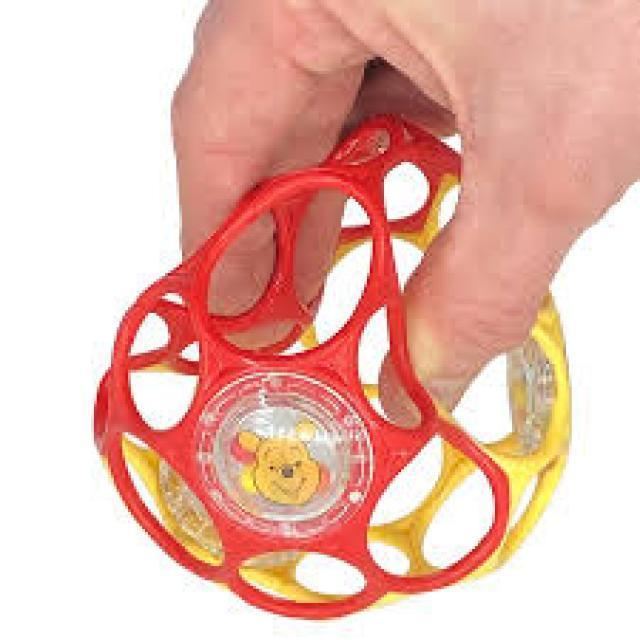hard-toy: (95, 116, 569, 618)
